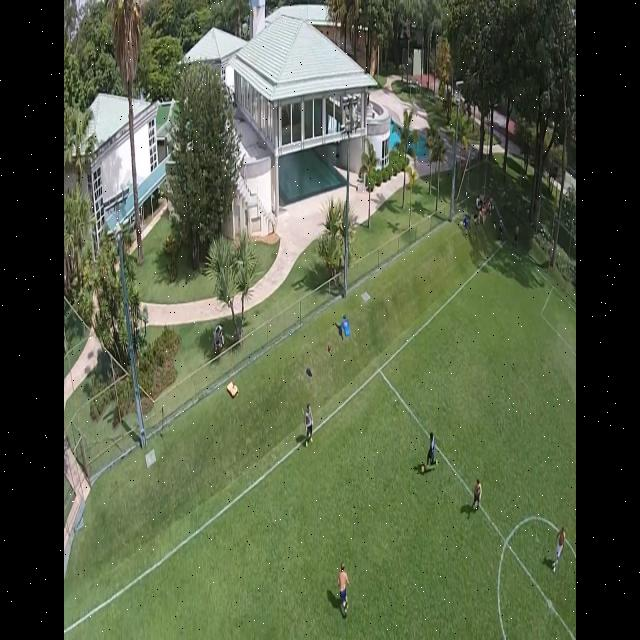humans: (336, 554, 353, 618), (300, 391, 316, 453), (550, 524, 567, 578), (470, 471, 484, 524), (424, 423, 436, 479)
